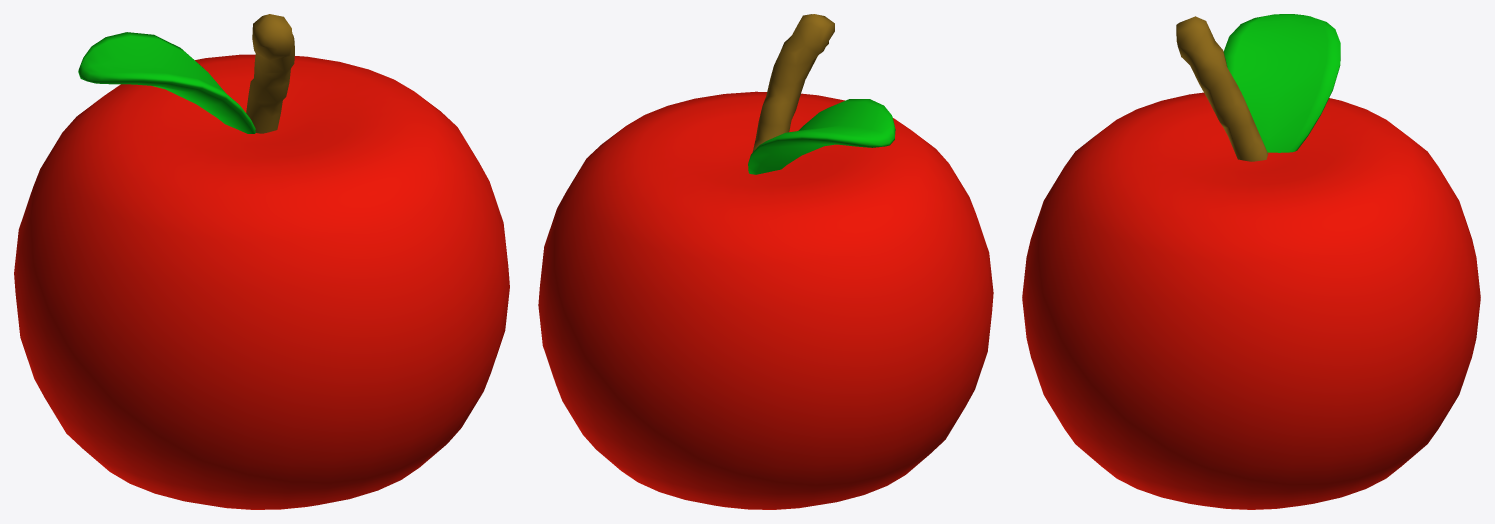
Rendered from apple.glb.
3 renders of one model, left to right at view 1: azimuth 30°, elevation 25°; view 2: azimuth 150°, elevation 25°; view 3: azimuth 270°, elevation 25°, orthographic. The views are drawn at different scales.
Parts seen in each view (by area): view 1: Sphere.001; view 2: Sphere.001; view 3: Sphere.001.
Part boxes in pixels (x1=…): Sphere.001: x1=14, y1=14, x2=509, y2=509; Sphere.001: x1=538, y1=14, x2=993, y2=509; Sphere.001: x1=1022, y1=14, x2=1480, y2=509.
Bounding box in the file's own units: 1.87 × 1.96 × 1.87.
